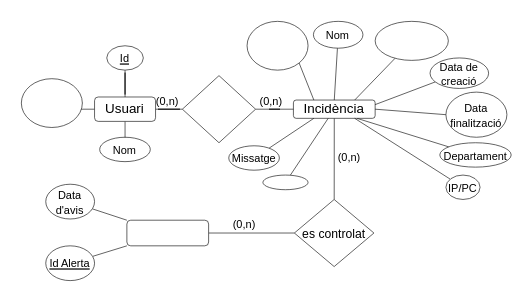
Image size: 532x301. Some labels were removed from this diagram. Here are the shapes that lost their labels. From the top down, the centre of each, then its label:
At pixel 277 45: "Numero incidencia".
At pixel 411 40: "Responsable assignat".
At pixel 51 102: "Correu electronic".
At pixel 218 108: "te asignat".
At pixel 285 181: "Status".
At pixel 167 232: "Alerta".
